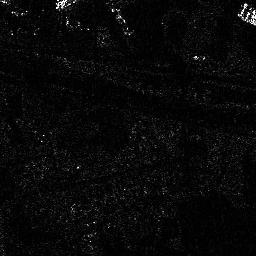ship: (103, 1, 134, 36)
